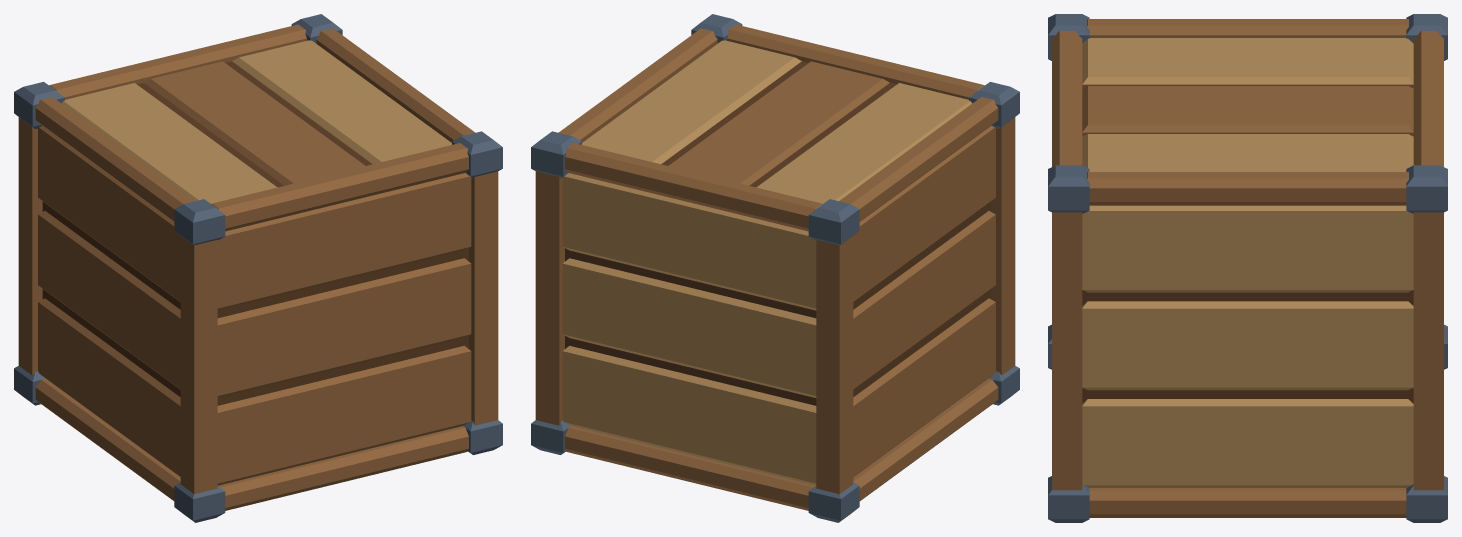
The model's file is Crate_11.glb.
The picture shows the model from 3 angles, left to right: view 1: azimuth 30°, elevation 25°; view 2: azimuth 150°, elevation 25°; view 3: azimuth 270°, elevation 25°; orthographic projection. The views are drawn at different scales.
Visible parts, largest first — view 1: Crate_11; view 2: Crate_11; view 3: Crate_11.
Boxes of the visible parts, x1,y1,x2,y2 form: Crate_11: (14,14,502,522); Crate_11: (531,14,1019,522); Crate_11: (1048,14,1447,522).
Bounding box in the file's own units: 2.11 × 2.02 × 2.11.
